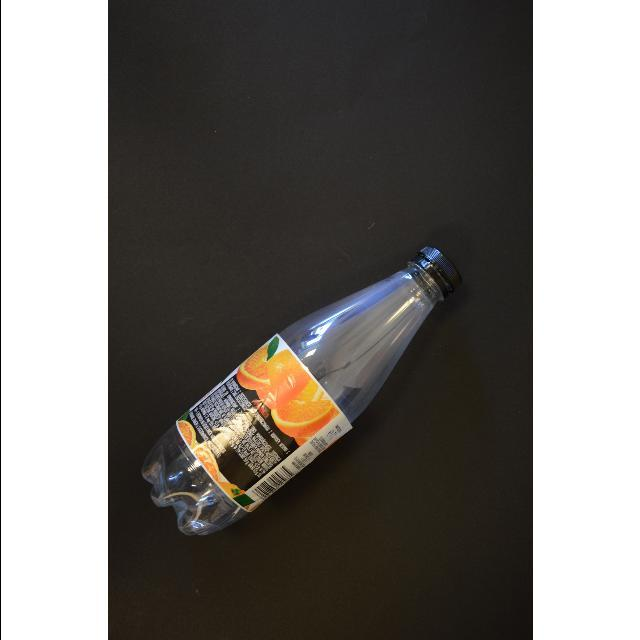PET Bottle: (122, 224, 482, 570)
